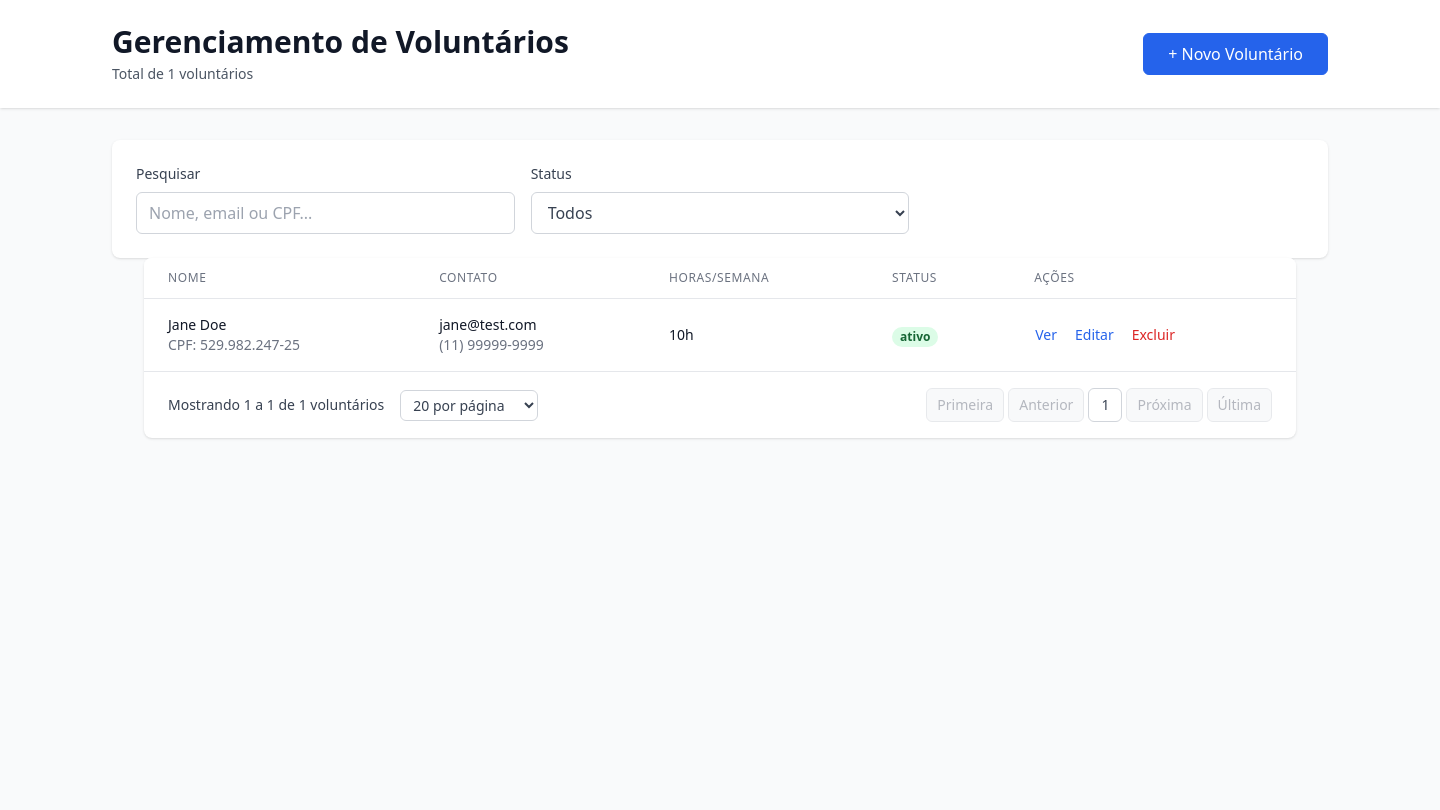
Test: ONGVolunteersPage › View Details › should open details modal when clicking view button
Expected: the text "Jane Doe" is shown, [168, 315, 226, 334]
Click the button "Ver" at [1046, 335], box [1034, 324, 1058, 346]
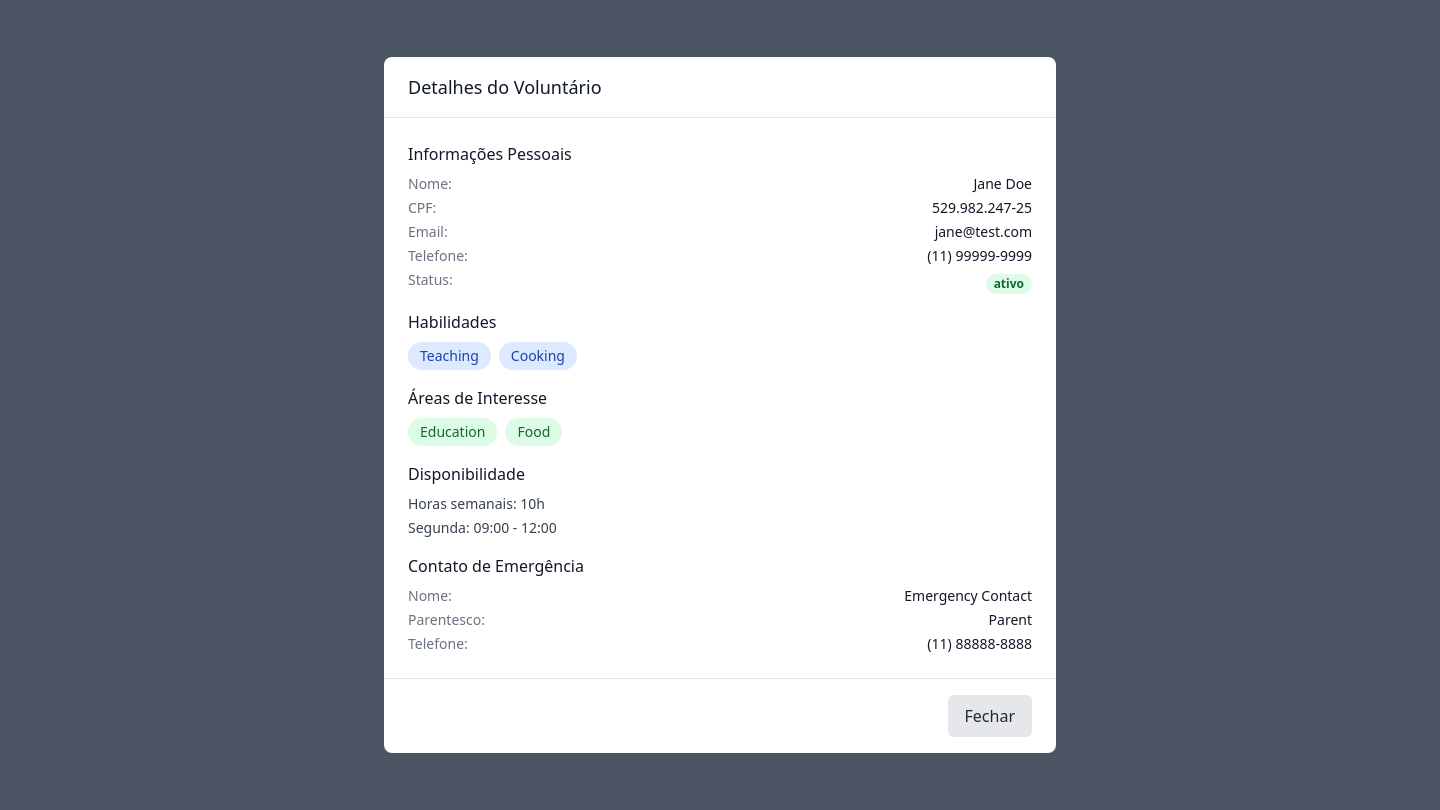
Expected: the text "jane@test.com" below "Horas/Semana" is shown, [439, 315, 536, 334]
Expected: the heading "Detalhes do Voluntário" is shown, [408, 75, 602, 99]
